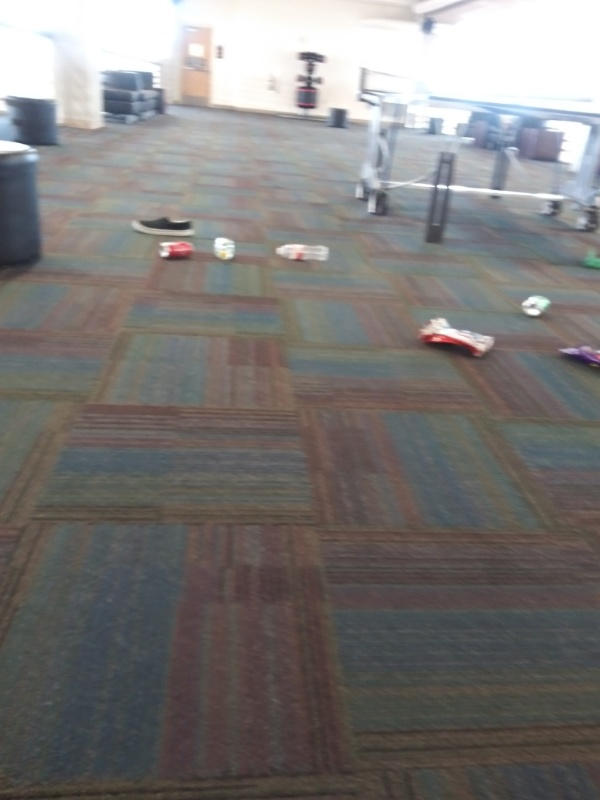bag: (417, 314, 495, 363), (557, 339, 600, 377)
bottle: (268, 239, 334, 268), (207, 229, 240, 264)
can: (155, 239, 199, 263), (517, 290, 555, 317)
